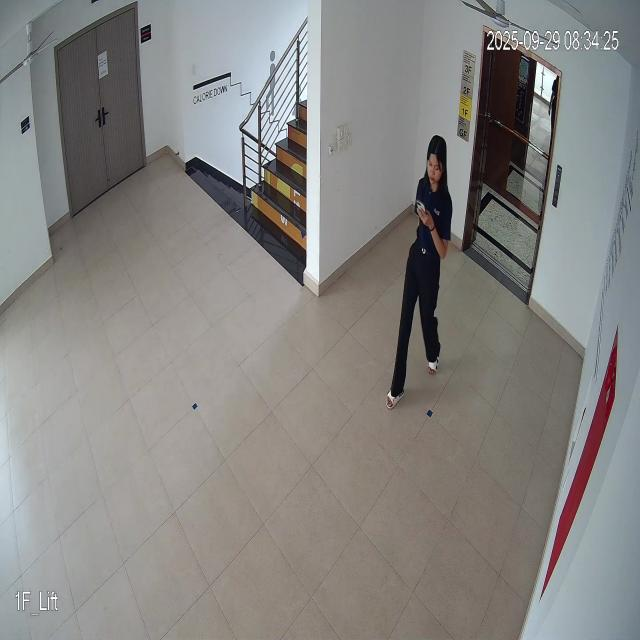face: (425, 136, 449, 191)
